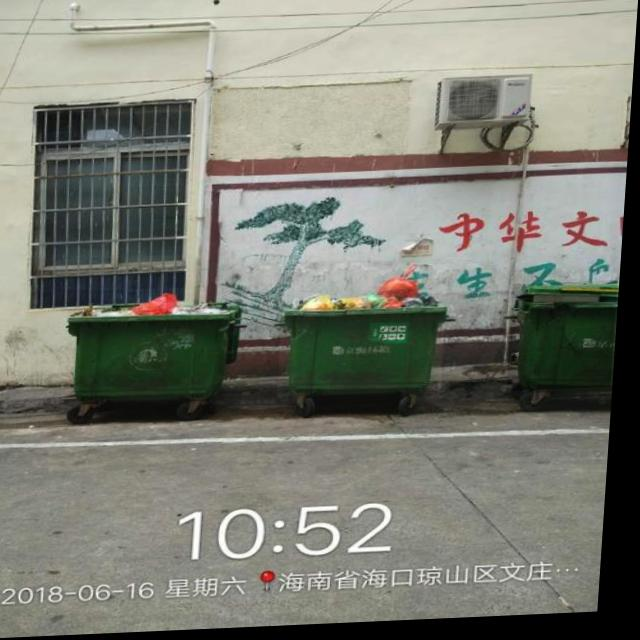garbage_bin: (512, 286, 622, 396)
overflow: (282, 268, 453, 400), (65, 291, 246, 401)
